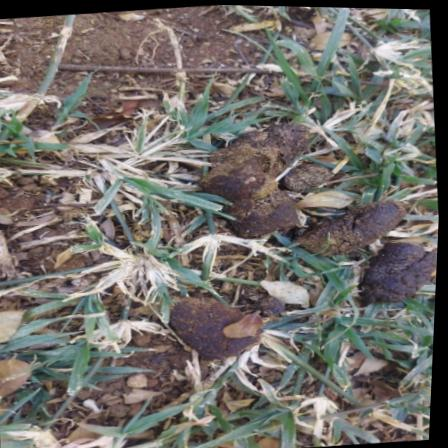dog-poop: (199, 96, 445, 314)
